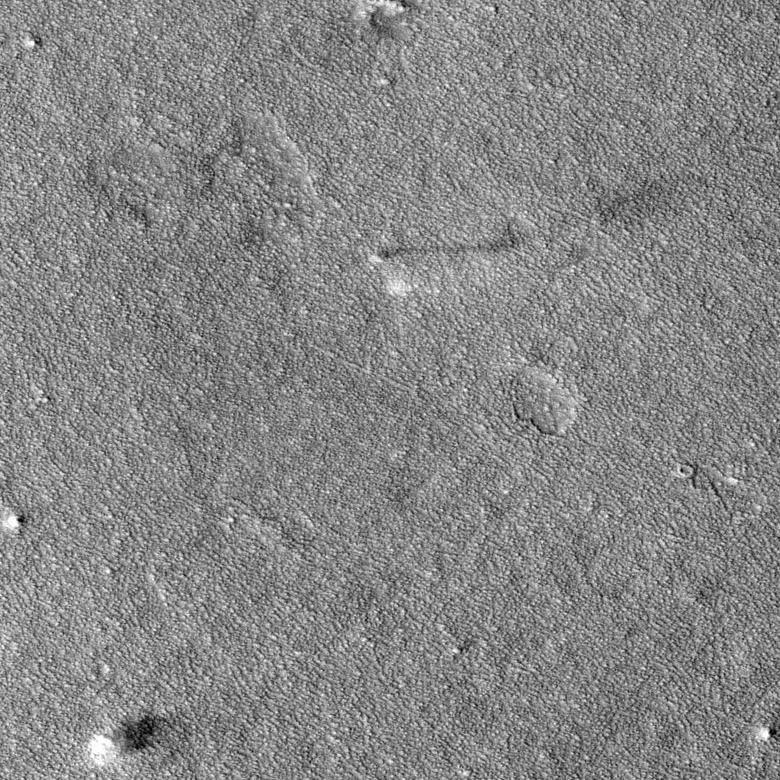dust_devil: (365, 219, 529, 265), (84, 706, 188, 768)
